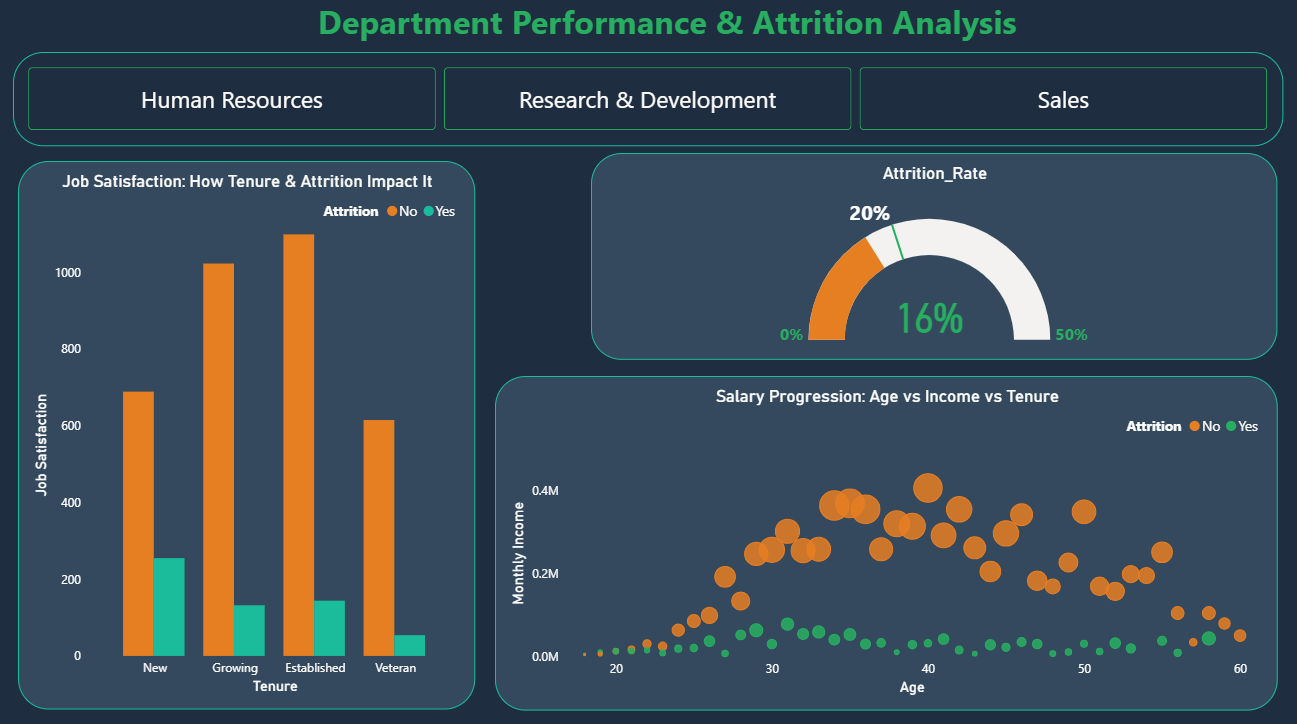

This screenshot's page, from the dashboard's own definition file:
{"tool":"powerbi","page":{"name":"Department Deep Dive","canvas":[1280,720],"ordinal":1},"visuals":[{"type":"scatterChart","title":"Salary Progression: Age vs Income vs Tenure","fields":{"Y":["Sum(Working_HR.MonthlyIncome)"],"Size":["Sum(Working_HR.YearsAtCompany)"],"X":["Working_HR.Age"],"Series":["Working_HR.Attrition"]},"box":[488.2,375.8,772.3,330.4],"z":0},{"type":"clusteredColumnChart","title":"Job Satisfaction: How Tenure & Attrition Impact It","fields":{"Category":["Working_HR.Tenure_Band"],"Y":["Sum(Working_HR.JobSatisfaction)"],"Series":["Working_HR.Attrition"]},"box":[17.8,163.7,450.7,541.5],"z":1000},{"type":"gauge","fields":{"Y":["Working_HR.Attrition_Rate"]},"box":[582.9,155.8,676.6,204.2],"z":2000},{"type":"advancedSlicerVisual","fields":{"Values":["Working_HR.Department"]},"box":[12.8,56.2,1252.6,92.7],"z":3000},{"type":"textbox","box":[313.4,4.4,696.1,44],"z":4000}]}

Visuals, with their boxes in screenshot pixels (x1, y1, x2, y2), scaled from the page's 1280x720 canvas onto the 1297x724 screenshot:
"Salary Progression: Age vs Income vs Tenure" scatterChart: 495,378,1277,710
"Job Satisfaction: How Tenure & Attrition Impact It" clusteredColumnChart: 18,165,475,709
gauge - Working_HR.Attrition_Rate: 591,157,1276,362
advancedSlicerVisual - Working_HR.Department: 13,57,1282,150
textbox: 318,4,1023,49
